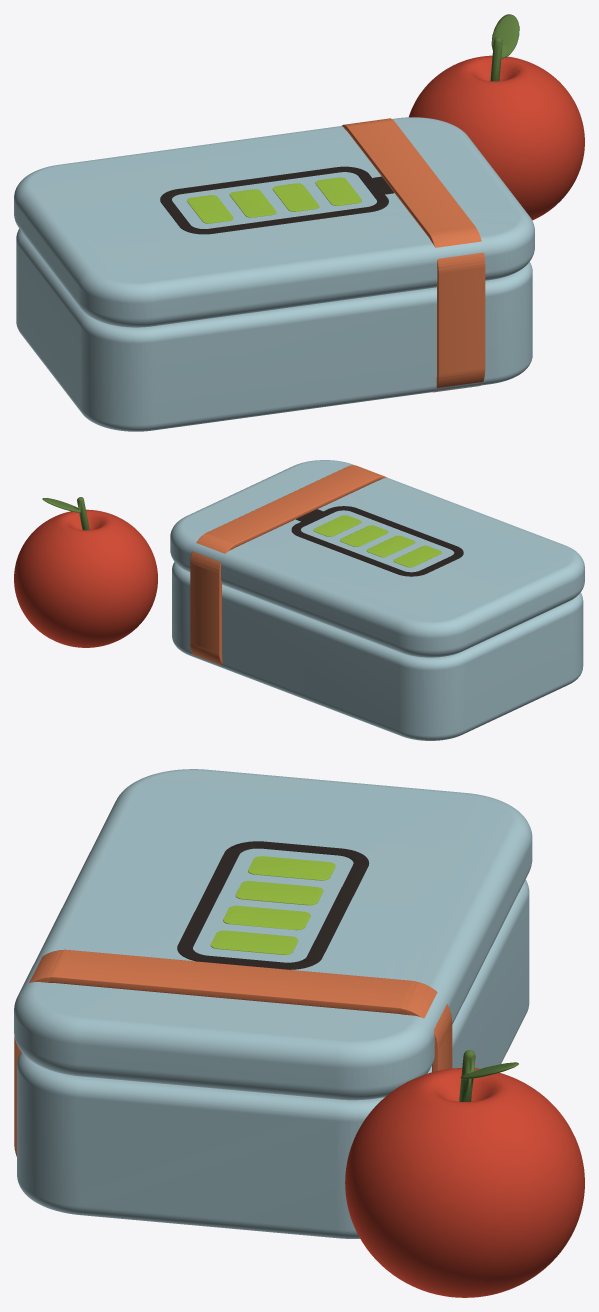
Rendered from battery-pack.glb.
3 renders of one model, top to bottom at view 1: azimuth 30°, elevation 25°; view 2: azimuth 150°, elevation 25°; view 3: azimuth 270°, elevation 25°, orthographic. The views are drawn at different scales.
Visible parts, largest first — view 1: bp-base, apple, bp-band, apple-stem; view 2: bp-base, apple, bp-band, apple-stem; view 3: bp-base, apple, bp-band, apple-stem.
Part boxes in pixels (box(x1,y1,x2,y2)): bp-base: box(14, 117, 534, 431); apple: box(409, 55, 584, 220); bp-band: box(342, 118, 485, 392); apple-stem: box(490, 14, 519, 81); bp-base: box(170, 460, 584, 740); apple: box(14, 509, 157, 647); bp-band: box(190, 465, 386, 665); apple-stem: box(42, 497, 89, 530); bp-base: box(14, 769, 532, 1238); apple: box(345, 1068, 584, 1297); bp-band: box(14, 949, 452, 1156); apple-stem: box(459, 1050, 518, 1101).
Bounding box in the file's own units: 0.3034 × 0.0938 × 0.1905.
Materials: 4 (4 with a texture image).
